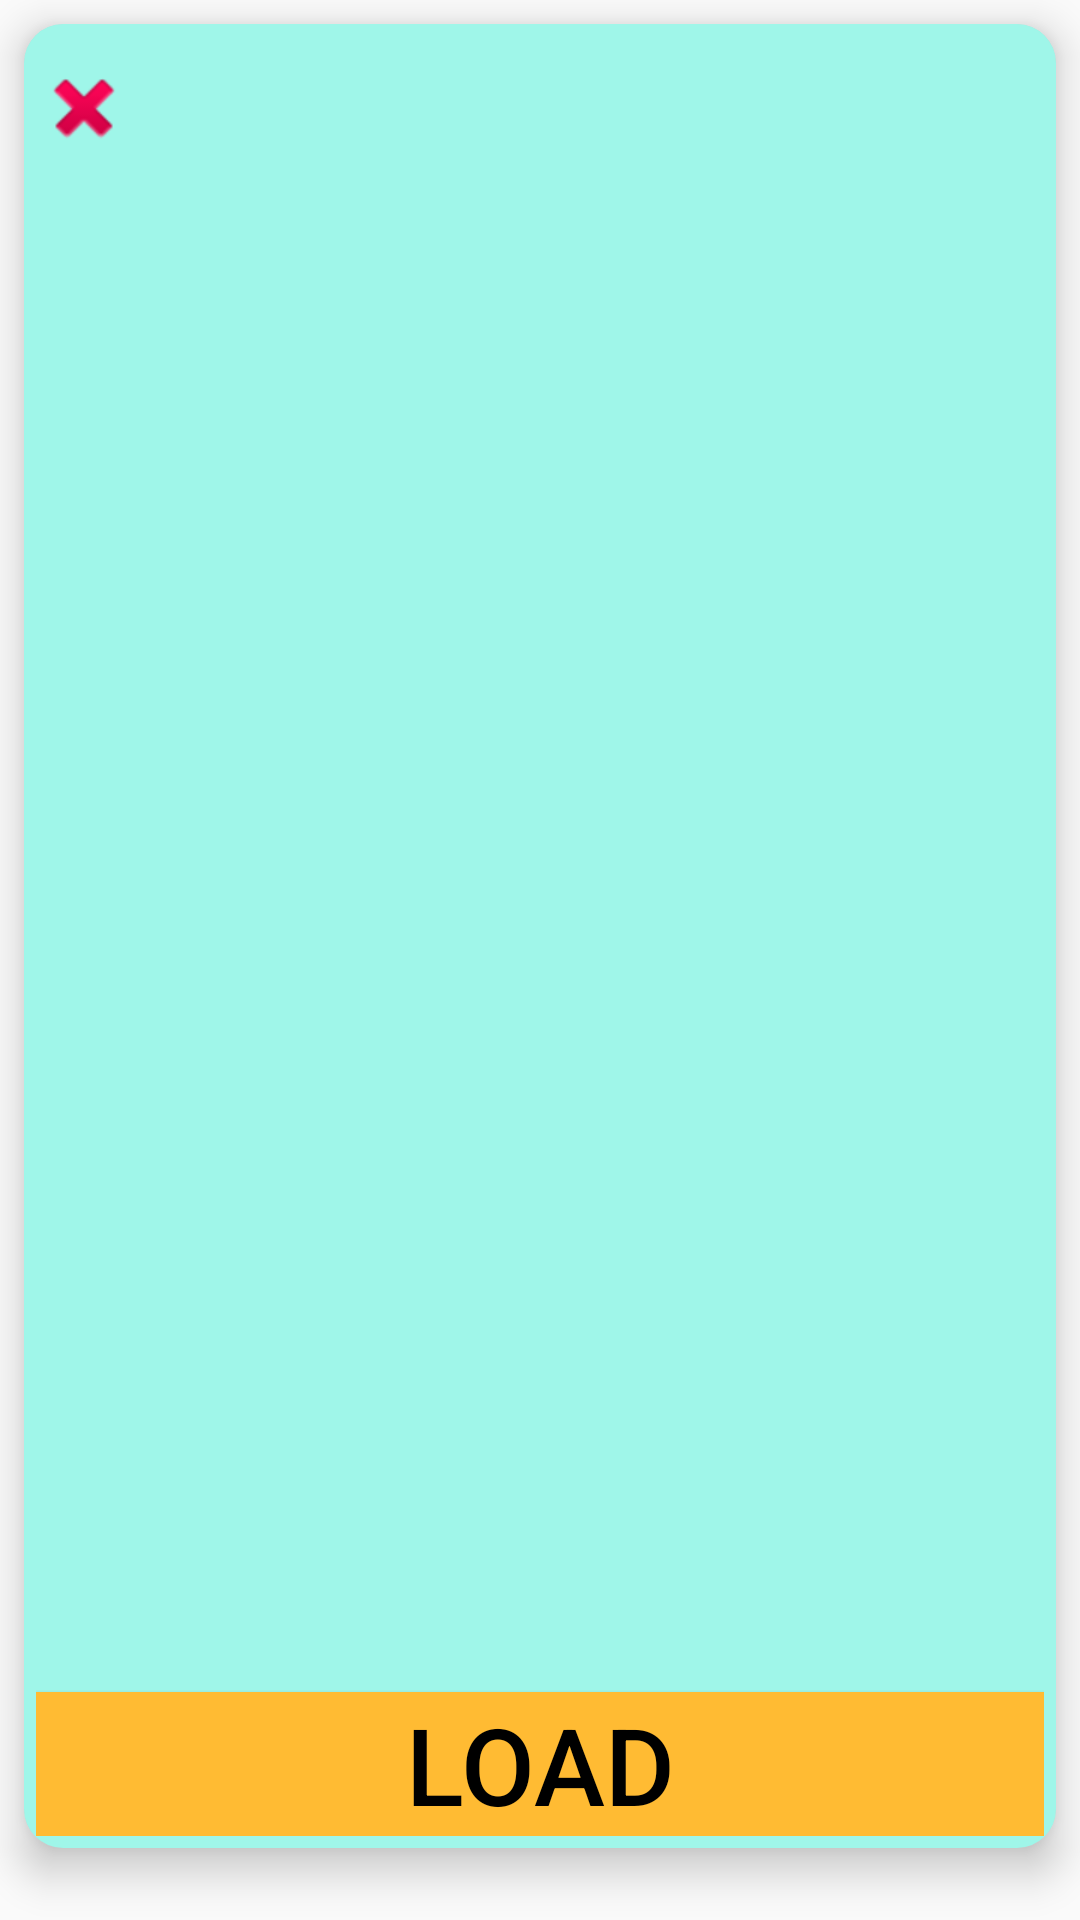

Point at icon controls on the screen. Image size 1080x1920, points as [x,y].
delete: [84,108]
